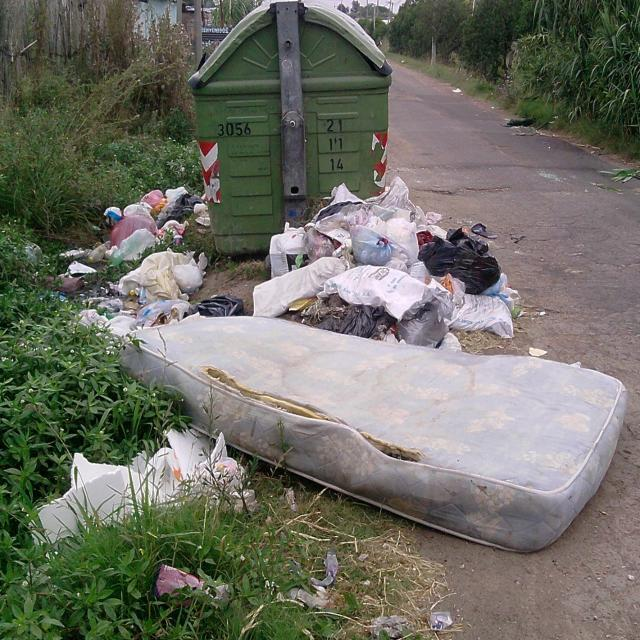garbage: (262, 192, 496, 337), (44, 434, 242, 550), (86, 173, 204, 331)
